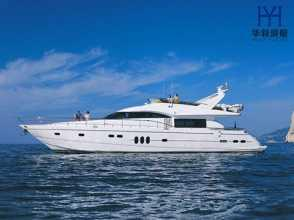yacht: (9, 80, 261, 153)
